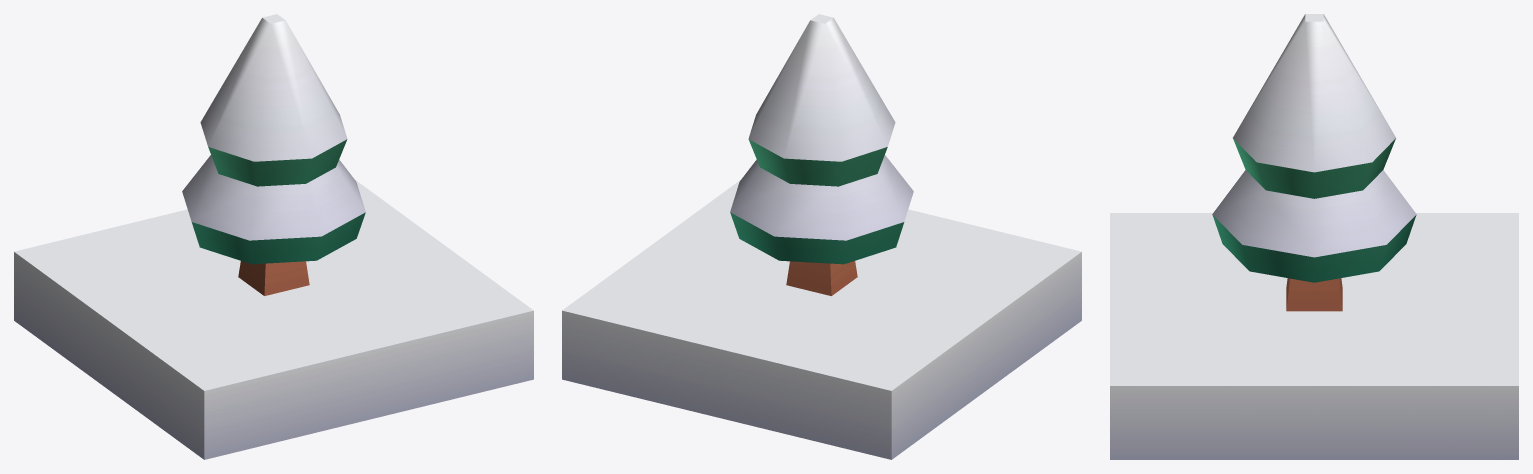
File: kenney-tower-defense-snow-tile-tree.glb
3 renders of one model, left to right at view 1: azimuth 30°, elevation 25°; view 2: azimuth 150°, elevation 25°; view 3: azimuth 270°, elevation 25°, orthographic. The views are drawn at different scales.
Visible parts, largest first — view 1: snow-tile-tree; view 2: snow-tile-tree; view 3: snow-tile-tree.
Boxes of the visible parts, <box> form: snow-tile-tree: <box>14,14,533,459</box>; snow-tile-tree: <box>562,14,1081,459</box>; snow-tile-tree: <box>1110,14,1518,459</box>.
Bounding box in the file's own units: 1 × 0.96 × 1.
1 material, 1 textured.
